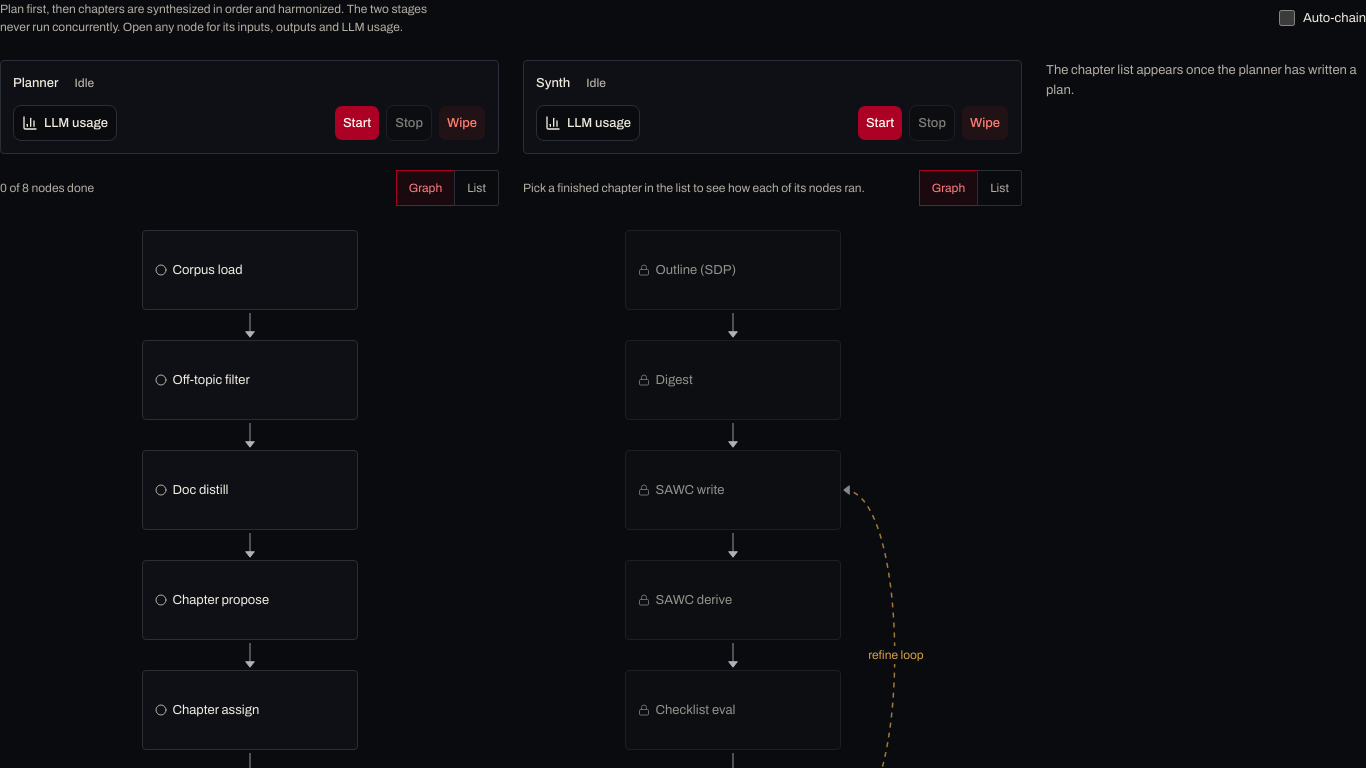
Test: Pipeline stage › gives each run bar an LLM usage button that opens that stage's usage sheet
Click the 1st button "LLM usage".
click(65, 123)  # box [13,105,117,141]
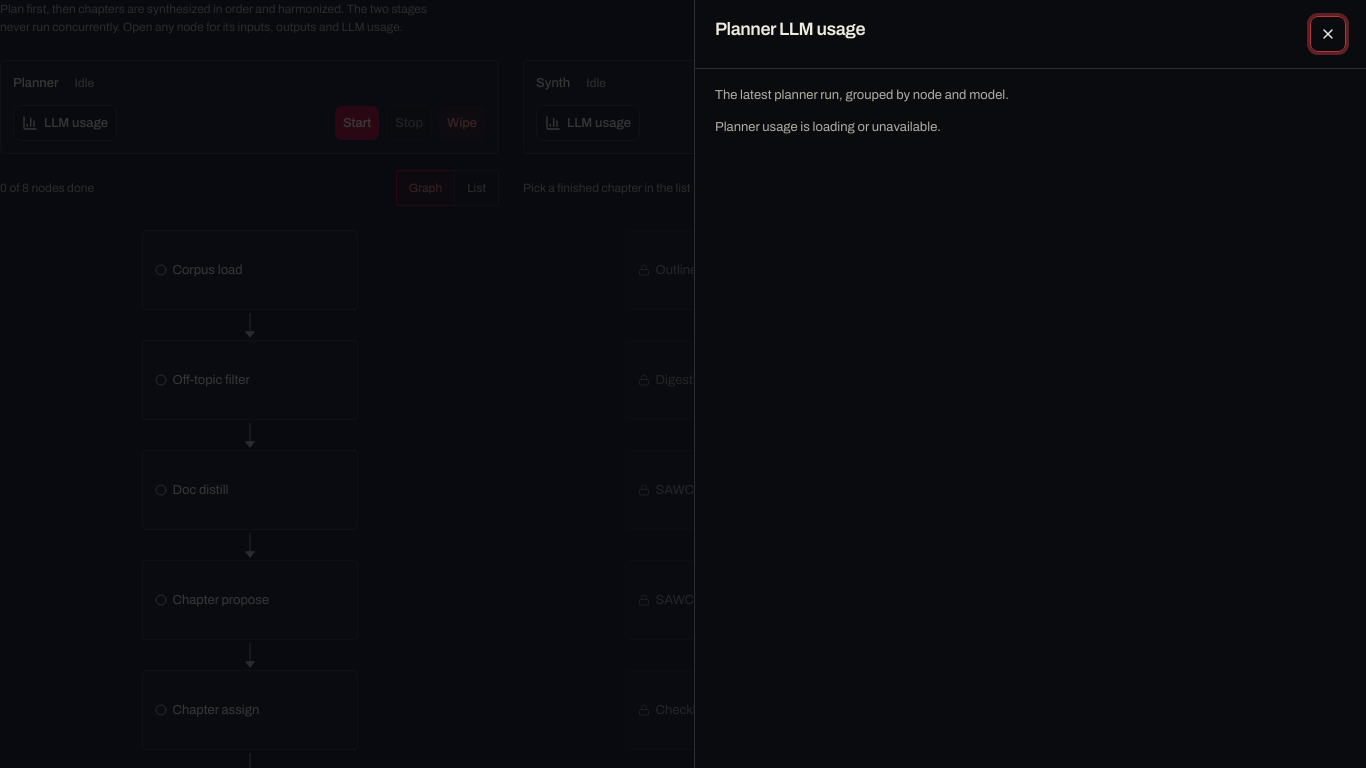
Check: the dialog "Planner LLM usage" is shown, box [694,0,1365,767]
